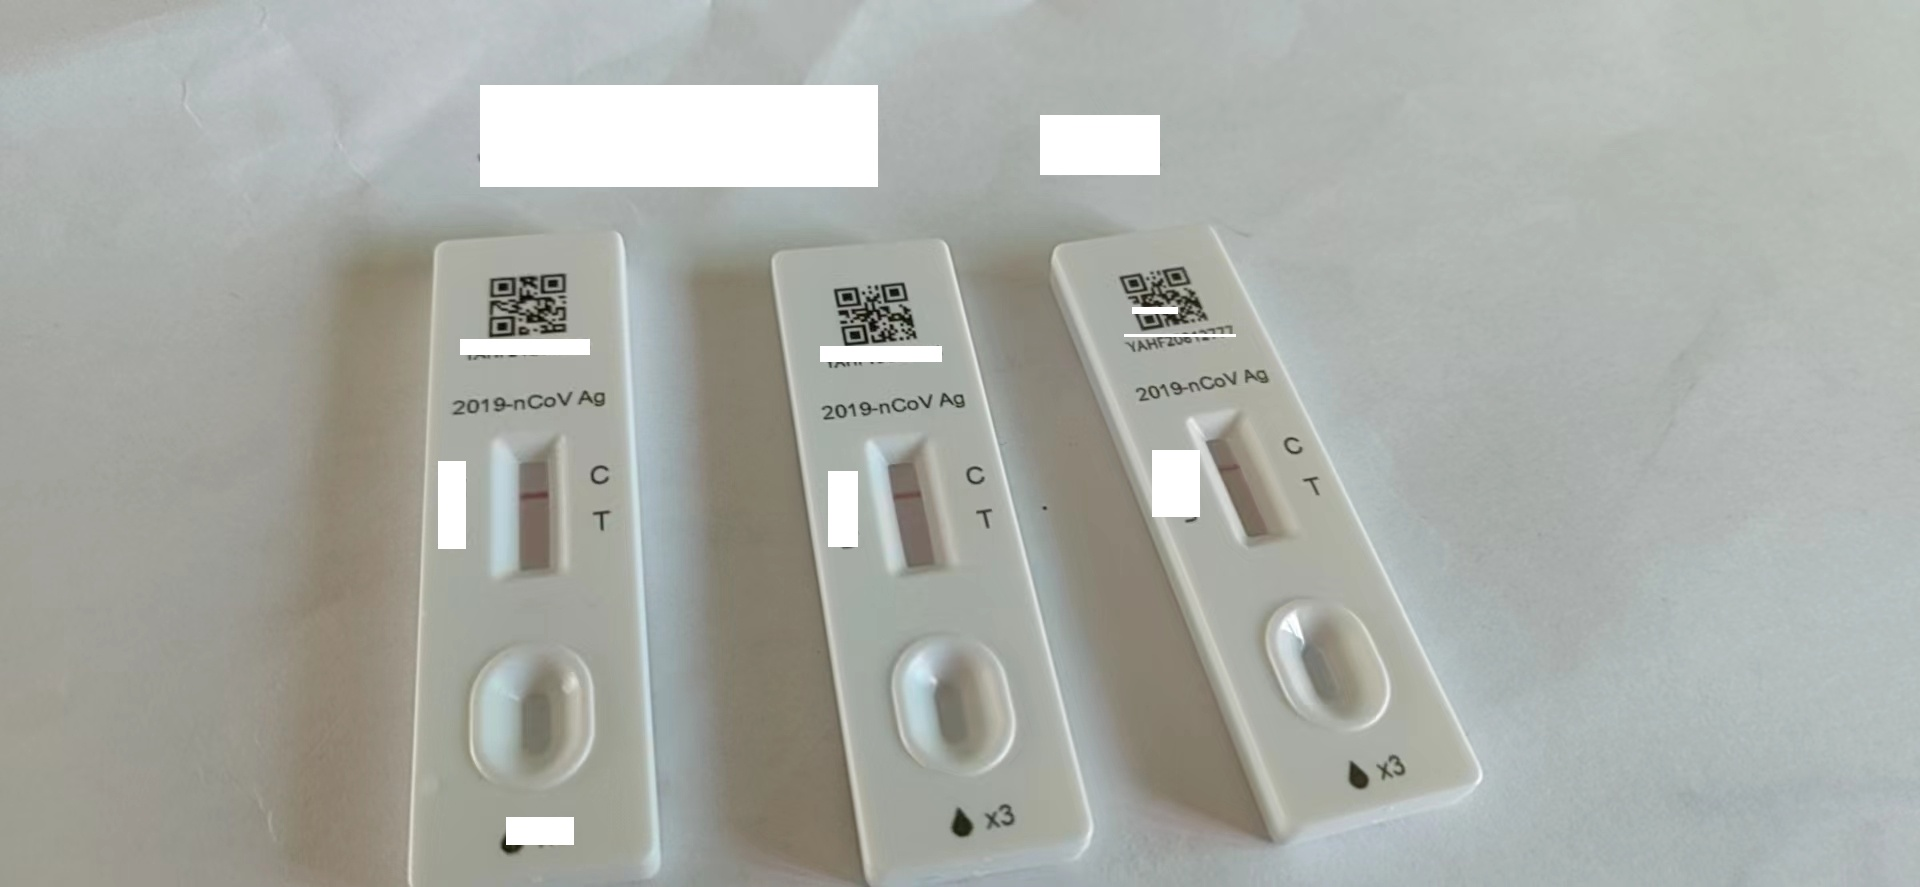negative: (1191, 410, 1291, 553), (490, 439, 564, 587), (874, 436, 949, 579)
